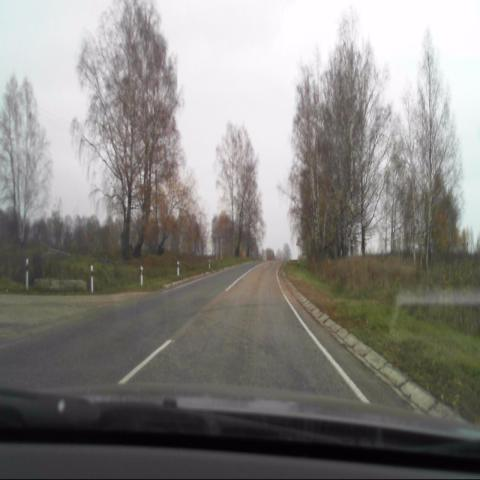2_3_2: (295, 235, 302, 245)
